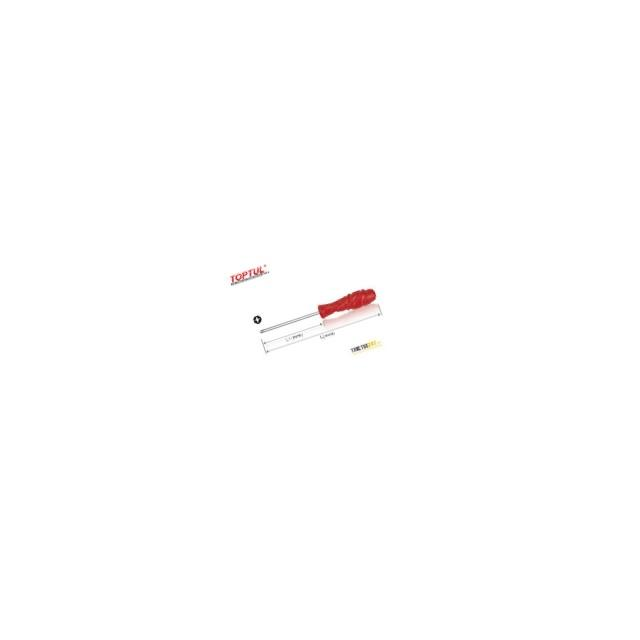screwdriver: (255, 284, 382, 342)
